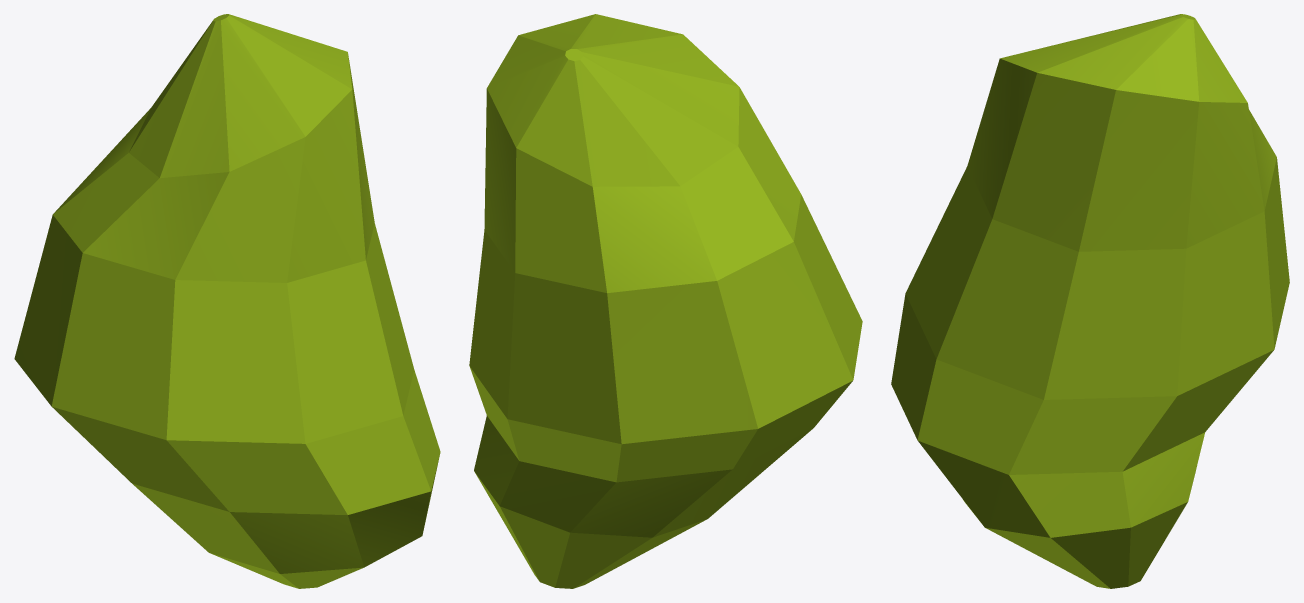
The model's file is Vegetation_Modular_Tree_Foliage_Clump_Small_12.fbx.
The picture shows the model from 3 angles, left to right: view 1: azimuth 30°, elevation 25°; view 2: azimuth 150°, elevation 25°; view 3: azimuth 270°, elevation 25°; orthographic projection. The views are drawn at different scales.
Parts seen in each view (by area): view 1: Vegetation_Modular_Tree_Foliage_Clump_Small_12; view 2: Vegetation_Modular_Tree_Foliage_Clump_Small_12; view 3: Vegetation_Modular_Tree_Foliage_Clump_Small_12.
Boxes of the visible parts, x1,y1,x2,y2 form: Vegetation_Modular_Tree_Foliage_Clump_Small_12: (14, 14, 440, 588); Vegetation_Modular_Tree_Foliage_Clump_Small_12: (469, 14, 862, 588); Vegetation_Modular_Tree_Foliage_Clump_Small_12: (891, 14, 1289, 588).
Size of the model in its own units: 44.01 by 64.83 by 43.04.
